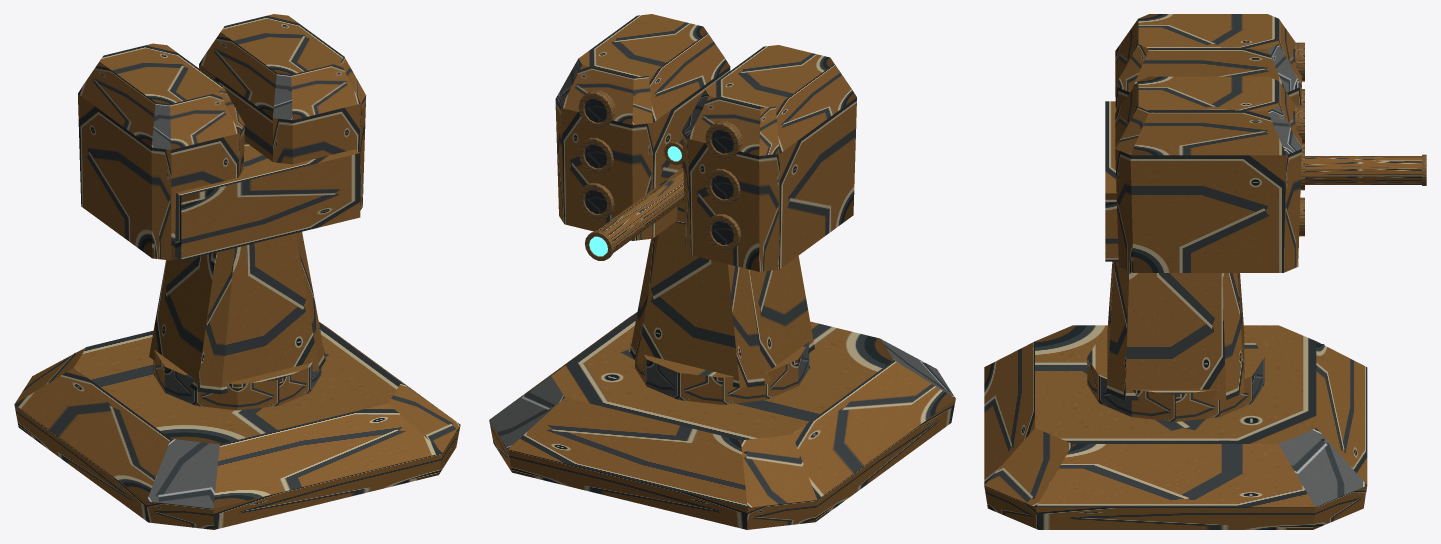
The model's file is fixed_missile.glb.
3 renders of one model, left to right at view 1: azimuth 30°, elevation 25°; view 2: azimuth 150°, elevation 25°; view 3: azimuth 270°, elevation 25°, orthographic. The views are drawn at different scales.
Visible parts, largest first — view 1: STProp_fixed_missile_Body, STProp_fixed_missile_HeadMesh; view 2: STProp_fixed_missile_Body, STProp_fixed_missile_HeadMesh; view 3: STProp_fixed_missile_Body, STProp_fixed_missile_HeadMesh.
Boxes of the visible parts, bbox=[...] form: STProp_fixed_missile_Body: bbox=[14, 232, 460, 529]; STProp_fixed_missile_HeadMesh: bbox=[78, 14, 366, 260]; STProp_fixed_missile_Body: bbox=[489, 201, 955, 529]; STProp_fixed_missile_HeadMesh: bbox=[555, 14, 856, 271]; STProp_fixed_missile_Body: bbox=[984, 261, 1367, 529]; STProp_fixed_missile_HeadMesh: bbox=[1105, 14, 1426, 272].
Size of the model in its own units: 3.16 by 3.53 by 3.65.
Materials: 5 (4 with a texture image).
